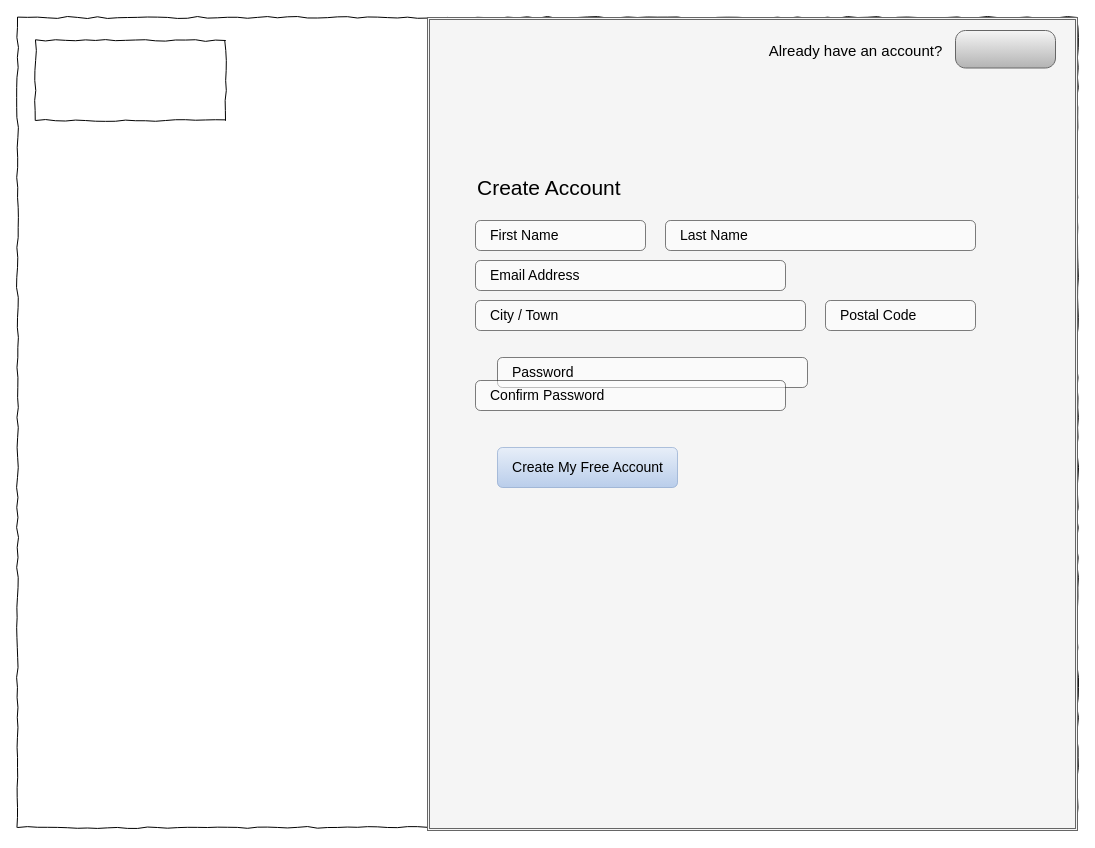
Image size: 1095x848. Some labels were removed from this diagram. The centre of each missing label's shape, as x and y in pixels:
"Log In" belongs at point 1005,49.
"LOGO" belongs at point 130,80.
